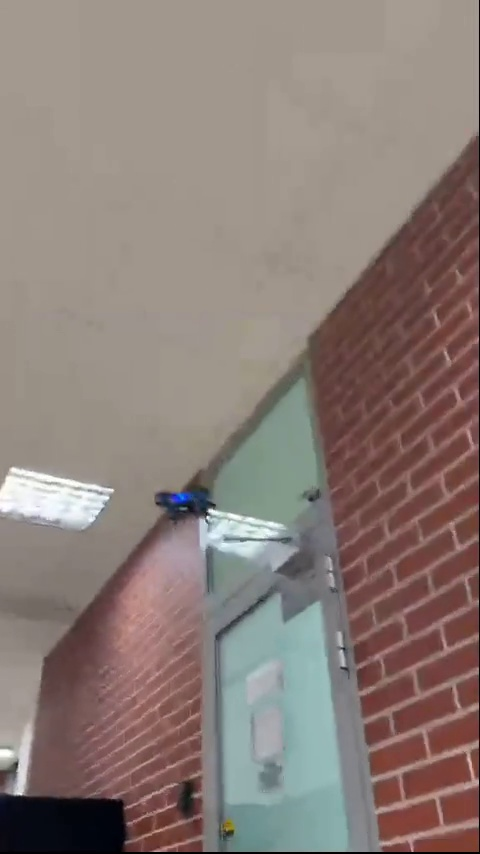drone: (158, 484, 213, 518)
